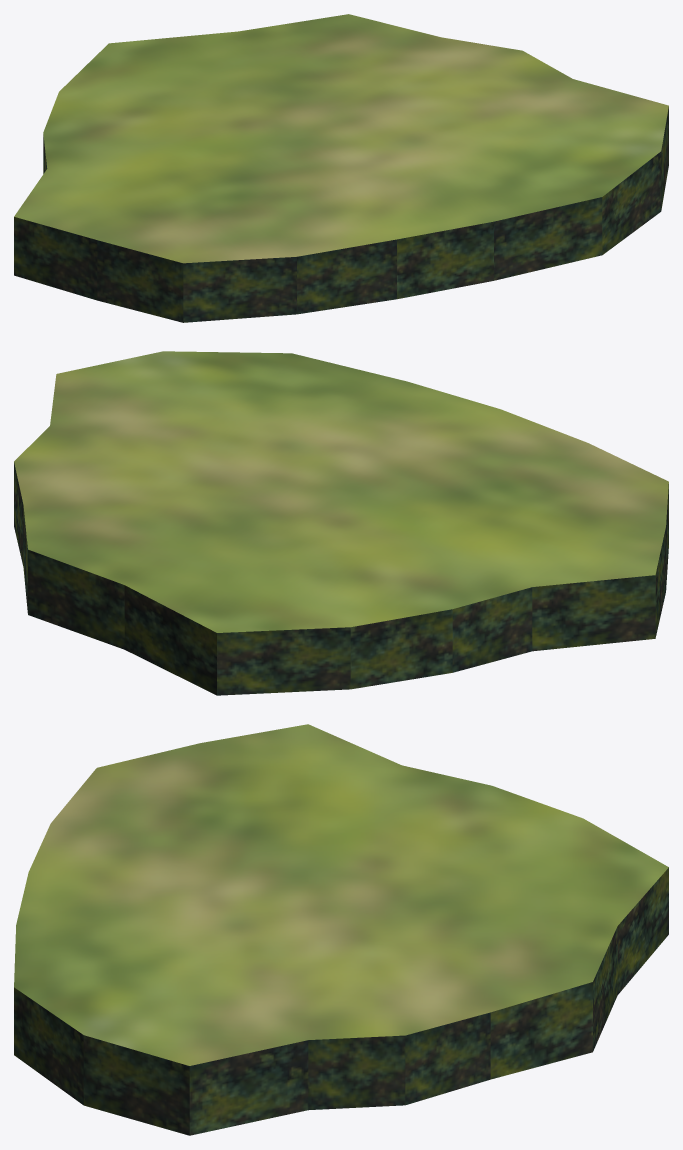
Rendered from Ground_Meadow_D.glb.
3 views of the same model, one above another, from view 1: azimuth 30°, elevation 25°; view 2: azimuth 150°, elevation 25°; view 3: azimuth 270°, elevation 25° (orthographic). The views are drawn at different scales.
Parts seen in each view (by area): view 1: Ground_Meadow_D; view 2: Ground_Meadow_D; view 3: Ground_Meadow_D.
Boxes of the visible parts, x1,y1,x2,y2 form: Ground_Meadow_D: (14, 14, 668, 322); Ground_Meadow_D: (14, 351, 668, 695); Ground_Meadow_D: (14, 724, 668, 1135).
Bounding box in the file's own units: 6.53 × 0.69 × 5.27.
1 material, 1 textured.
